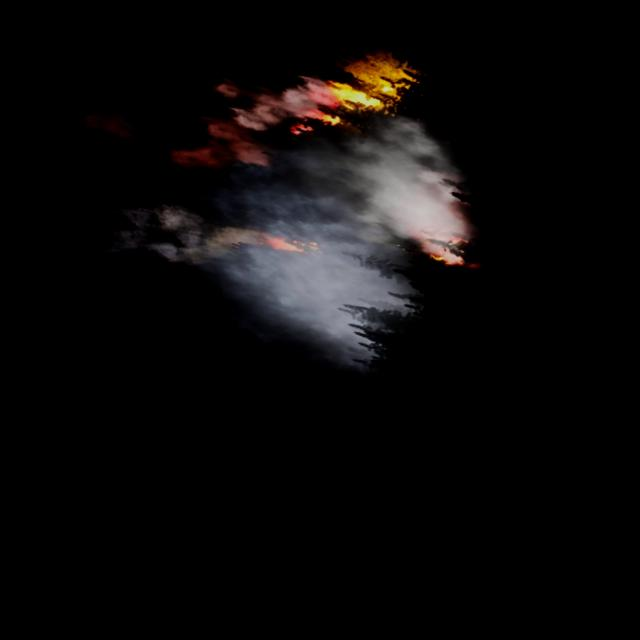fire: (329, 48, 416, 118), (425, 225, 488, 277), (267, 232, 310, 256)
smoke: (57, 19, 499, 396)
